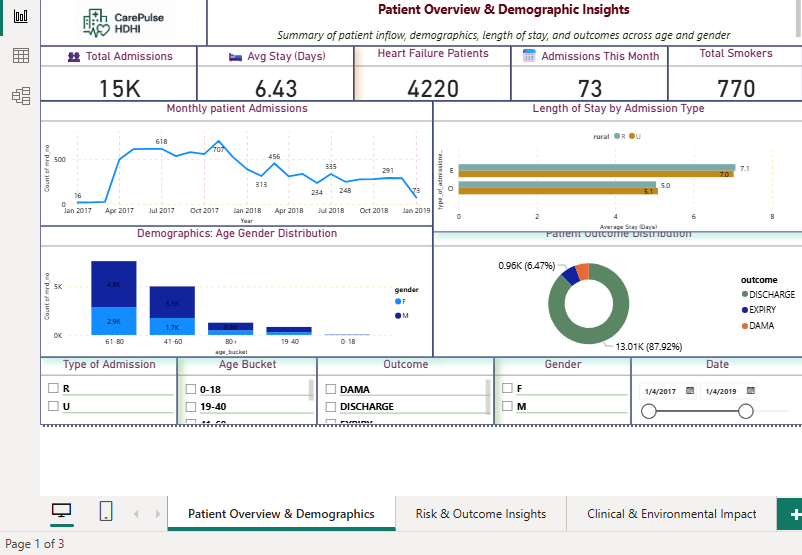

Layout of this report page (visuals, bound fields, positions):
{"tool":"powerbi","page":{"name":"Patient Overview & Demographics","canvas":[1280,720],"ordinal":0},"visuals":[{"type":"image","box":[0,0,280.2,83.9],"z":0},{"type":"textbox","box":[280.2,0,999.8,83.9],"z":1},{"type":"card","title":"👥 Total Admissions","fields":{"Values":["MasterHospitalData.Total Admissions"]},"box":[0,83.9,263.4,92.3],"z":2},{"type":"card","title":"Heart Failure Patients","fields":{"Values":["MasterHospitalData.Heart Failure Patients"]},"box":[526.8,83.9,263.4,92.3],"z":3},{"type":"card","title":"🛏️ Avg Stay (Days)","fields":{"Values":["MasterHospitalData.Average Stay (Days)"]},"box":[263.4,83.9,263.4,92.3],"z":4},{"type":"card","title":"📅 Admissions This Month","fields":{"Values":["MasterHospitalData.Admissions This Month"]},"box":[790.1,83.9,263.4,92.3],"z":5},{"type":"card","title":"Total Smokers","fields":{"Values":["MasterHospitalData.Total Smokers"]},"box":[1053.5,83.9,226.5,92.3],"z":6},{"type":"slicer","title":"Gender","fields":{"Values":["MasterHospitalData.gender"]},"box":[761.6,605.6,229.8,114.1],"z":7},{"type":"slicer","title":"Age Bucket","fields":{"Values":["MasterHospitalData.age_bucket"]},"box":[229.8,605.6,234.9,114.1],"z":8},{"type":"slicer","title":"Type of Admission","fields":{"Values":["MasterHospitalData.rural"]},"box":[0,605.6,229.8,114.1],"z":9},{"type":"slicer","title":"Outcome","fields":{"Values":["MasterHospitalData.outcome"]},"box":[464.7,605.6,296.9,114.1],"z":10},{"type":"slicer","title":"Date","fields":{"Values":["MasterHospitalData.doa"]},"box":[991.5,605.6,288.5,114.1],"z":11},{"type":"lineChart","title":"Monthly patient Admissions","fields":{"Y":["CountNonNull(MasterHospitalData.mrd_no)"],"Category":["MasterHospitalData.doa.Variation.Date Hierarchy.Year","MasterHospitalData.doa.Variation.Date Hierarchy.Quarter","MasterHospitalData.doa.Variation.Date Hierarchy.Month","MasterHospitalData.doa.Variation.Date Hierarchy.Day"]},"box":[0,176.1,659.3,209.7],"z":12},{"type":"columnChart","title":"Demographics: Age Gender Distribution","fields":{"Category":["MasterHospitalData.age_bucket"],"Y":["CountNonNull(MasterHospitalData.mrd_no)"],"Series":["MasterHospitalData.gender"]},"box":[0,385.8,659.3,219.8],"z":13},{"type":"donutChart","title":"Patient Outcome Distribution","fields":{"Y":["CountNonNull(MasterHospitalData.mrd_no)"],"Category":["MasterHospitalData.outcome"]},"box":[659.3,385.8,620.7,219.8],"z":14},{"type":"clusteredBarChart","title":"Length of Stay by Admission Type","fields":{"Category":["MasterHospitalData.type_of_admissionemergencyopd"],"Y":["MasterHospitalData.Average Stay (Days)"],"Series":["MasterHospitalData.rural"]},"box":[659.3,176.1,620.7,219.8],"z":15}]}

Visuals, with their boxes on the page's 1280x720 design canvas (x1, y1, x2, y2). These are canvas units, not pixel positions in the 802x555 screenshot, which may show the page scaled, cropped or inside an application window:
image: rect(0, 0, 280, 84)
textbox: rect(280, 0, 1280, 84)
"👥 Total Admissions" card: rect(0, 84, 263, 176)
"Heart Failure Patients" card: rect(527, 84, 790, 176)
"🛏️ Avg Stay (Days)" card: rect(263, 84, 527, 176)
"📅 Admissions This Month" card: rect(790, 84, 1054, 176)
"Total Smokers" card: rect(1054, 84, 1280, 176)
"Gender" slicer: rect(762, 606, 991, 720)
"Age Bucket" slicer: rect(230, 606, 465, 720)
"Type of Admission" slicer: rect(0, 606, 230, 720)
"Outcome" slicer: rect(465, 606, 762, 720)
"Date" slicer: rect(992, 606, 1280, 720)
"Monthly patient Admissions" lineChart: rect(0, 176, 659, 386)
"Demographics: Age Gender Distribution" columnChart: rect(0, 386, 659, 606)
"Patient Outcome Distribution" donutChart: rect(659, 386, 1280, 606)
"Length of Stay by Admission Type" clusteredBarChart: rect(659, 176, 1280, 396)
